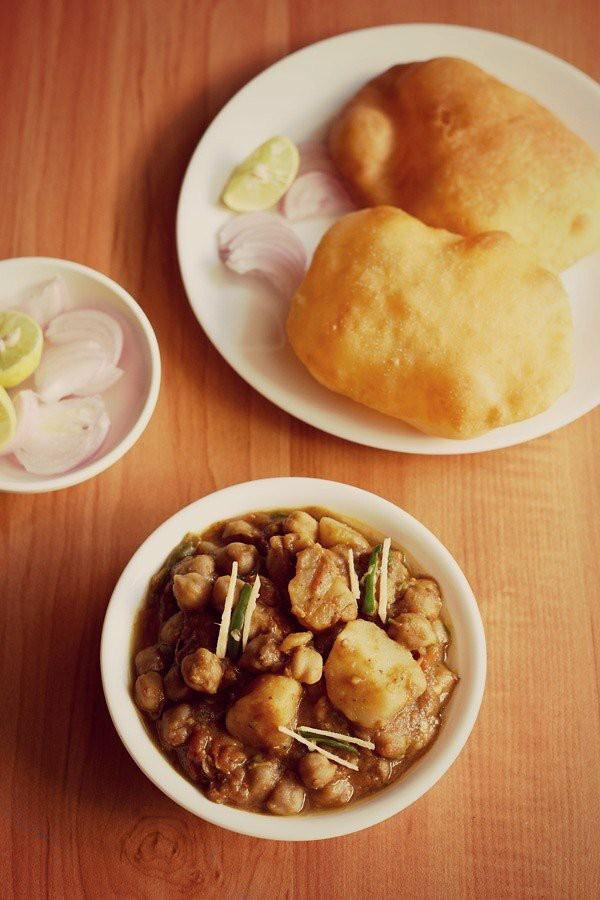Bhatura: (284, 206, 571, 439), (322, 57, 600, 279)
Chole: (129, 509, 463, 815)
